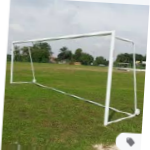goals: (10, 34, 138, 124)
